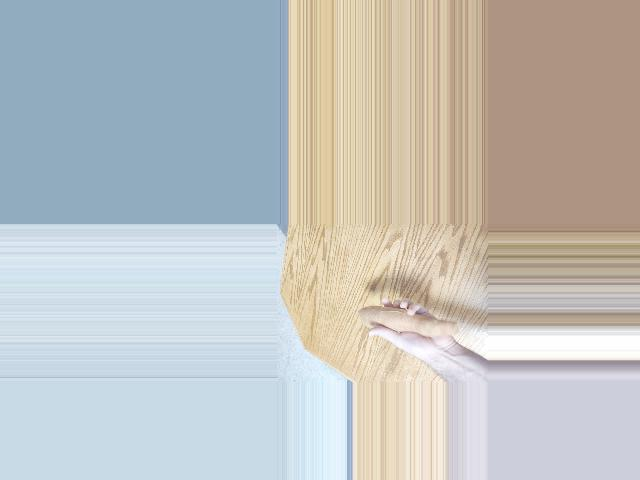sweet_potato: (356, 304, 468, 345)
